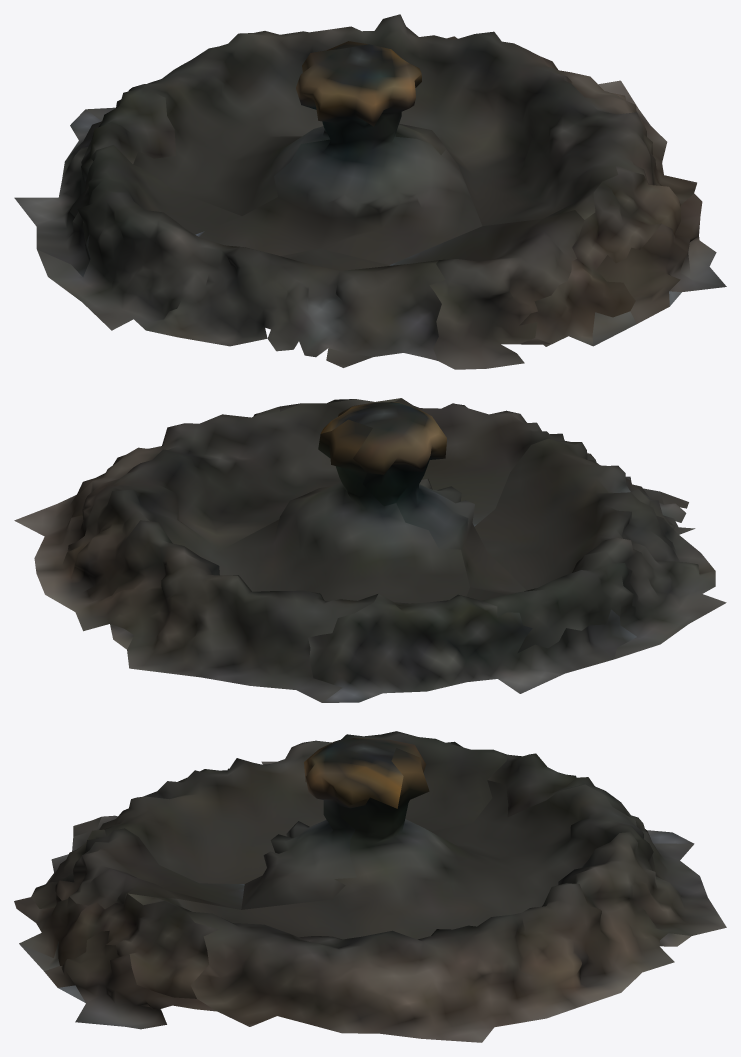
The model's file is GrosseFontaine_WebAR.glb.
3 renders of one model, top to bottom at view 1: azimuth 30°, elevation 25°; view 2: azimuth 150°, elevation 25°; view 3: azimuth 270°, elevation 25°, orthographic. The views are drawn at different scales.
Visible parts, largest first — view 1: Fontaine; view 2: Fontaine; view 3: Fontaine.
Part boxes in pixels (x1,y1,x2,y2): Fontaine: [14, 14, 726, 369]; Fontaine: [14, 398, 726, 702]; Fontaine: [14, 731, 726, 1042].
Size of the model in its own units: 0.0352 by 0.00975 by 0.0358.
Materials: 1 (1 with a texture image).
